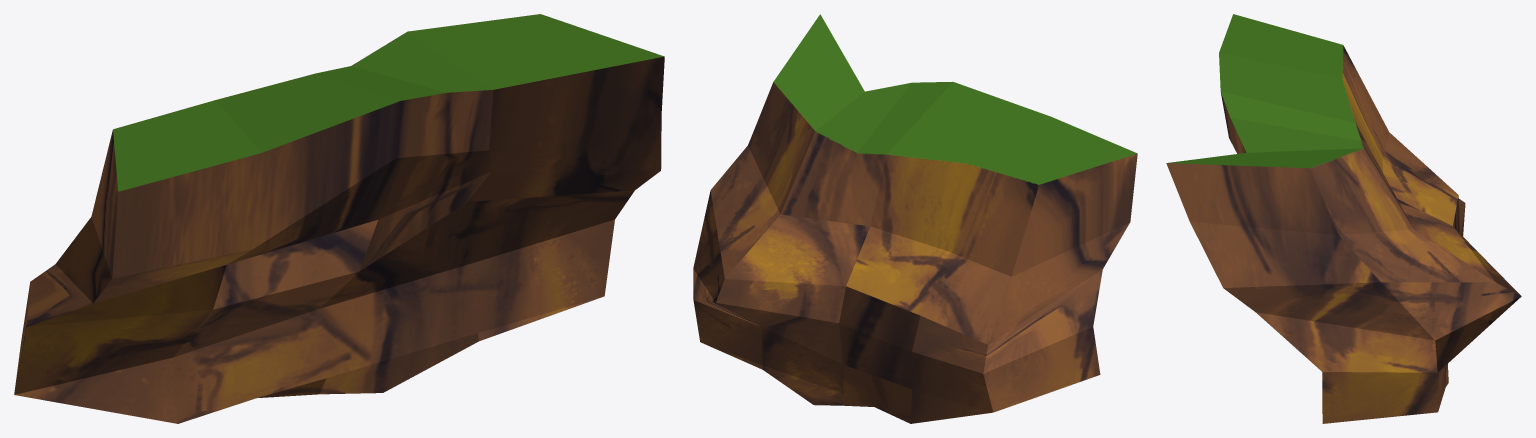
File: sali42.obj
3 views of the same model, side by side, from view 1: azimuth 30°, elevation 25°; view 2: azimuth 150°, elevation 25°; view 3: azimuth 270°, elevation 25° (orthographic). The views are drawn at different scales.
Visible parts, largest first — view 1: Cube.007_Cube.006; view 2: Cube.007_Cube.006; view 3: Cube.007_Cube.006.
Boxes of the visible parts, bbox=[...] form: Cube.007_Cube.006: bbox=[14, 14, 664, 423]; Cube.007_Cube.006: bbox=[693, 14, 1137, 423]; Cube.007_Cube.006: bbox=[1166, 14, 1521, 423].
Bounding box in the file's own units: 84.19 × 52.75 × 59.58.
Materials: 1 (1 with a texture image).
